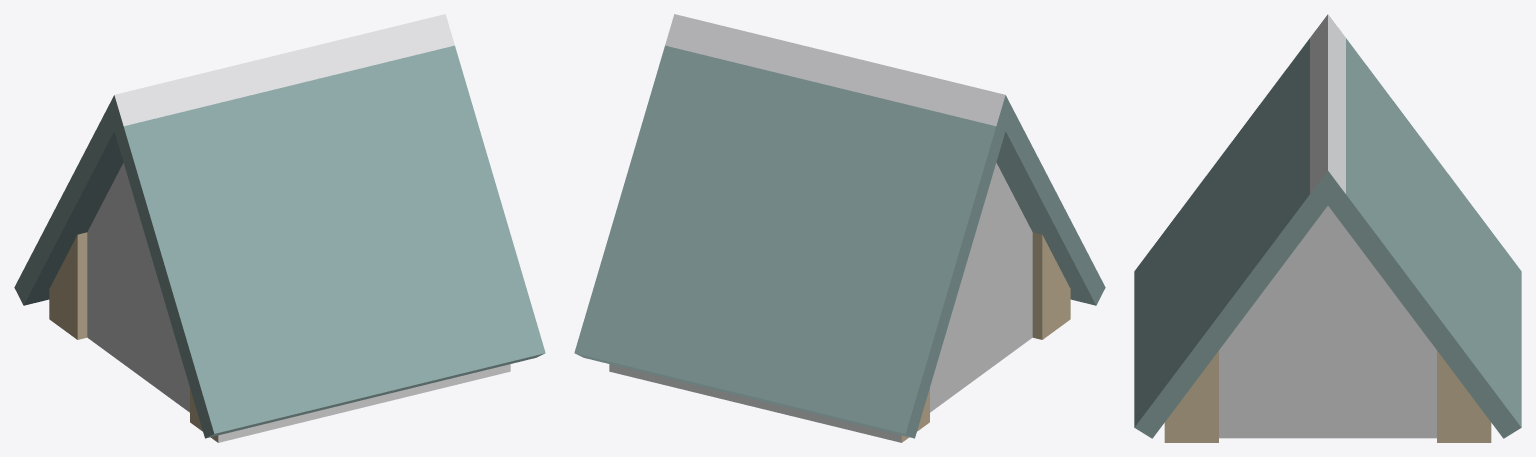
Rendered from Roof_Straight_Green_01.glb.
The picture shows the model from 3 angles, left to right: view 1: azimuth 30°, elevation 25°; view 2: azimuth 150°, elevation 25°; view 3: azimuth 270°, elevation 25°; orthographic projection. The views are drawn at different scales.
Visible parts, largest first — view 1: Roof_Straight_Green_01; view 2: Roof_Straight_Green_01; view 3: Roof_Straight_Green_01.
Part boxes in pixels (box(x1,y1,x2,y2)): Roof_Straight_Green_01: box(14, 14, 545, 442); Roof_Straight_Green_01: box(574, 14, 1105, 442); Roof_Straight_Green_01: box(1134, 14, 1521, 442).
Bounding box in the file's own units: 3.4 × 2.86 × 3.56.
